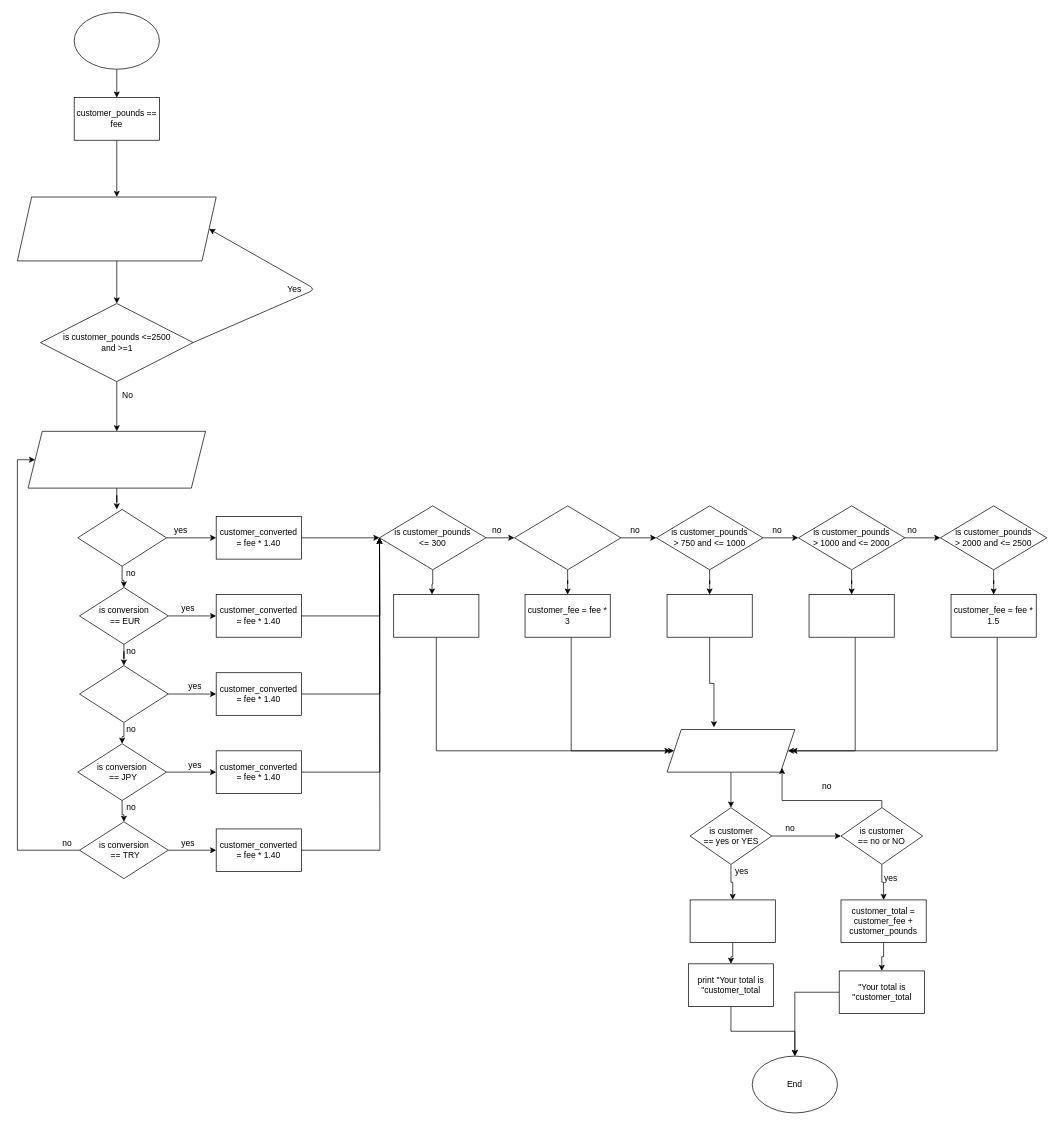
The diagram is 1059 pixels wide and 1125 high, and some of its shapes have lost their labels. Each missing label, with the centre of its shape:
conversion = "what currency do you want to convert to?": the point at 116,459
customer = "is the customer a member of staff?": the point at 730,750
customer_fee = fee * 2: the point at 851,615
customer_fee = fee * 2.5: the point at 709,615
customer_fee = fee * 3.5: the point at 436,615
customer_pounds = "How many pounds the customer wants to convert?": the point at 116,228
customer_total = (customer_pounds +customer_fee) / 5: the point at 732,921
is conversion == BRL: the point at 123,693
is conversion == USD: the point at 121,537
is customer_pounds > 300 and <= 750: the point at 567,537
START: the point at 116,40
